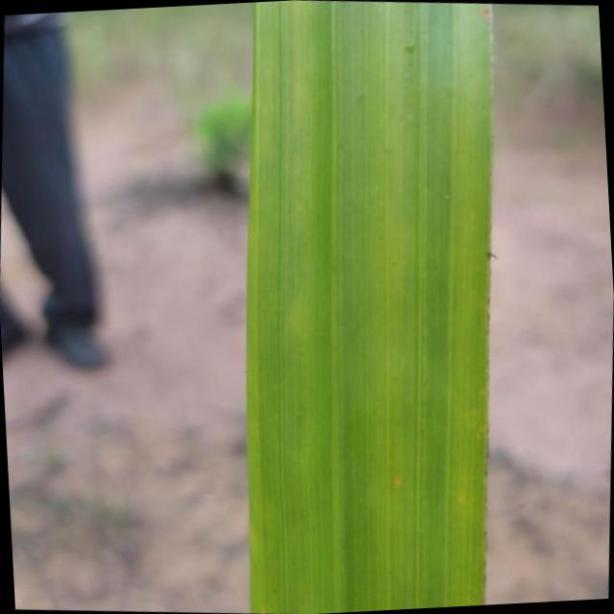nitrogen: (251, 0, 485, 614)
